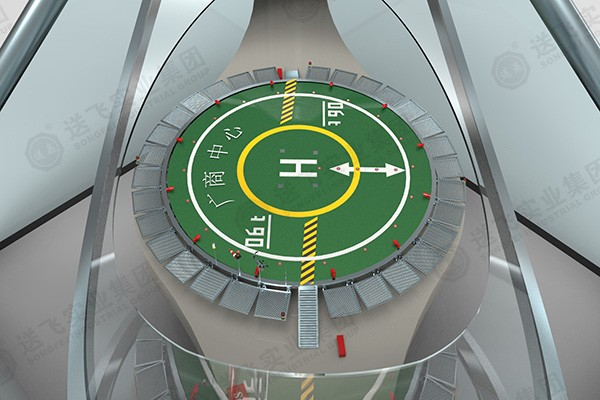H: (279, 159, 316, 177)
